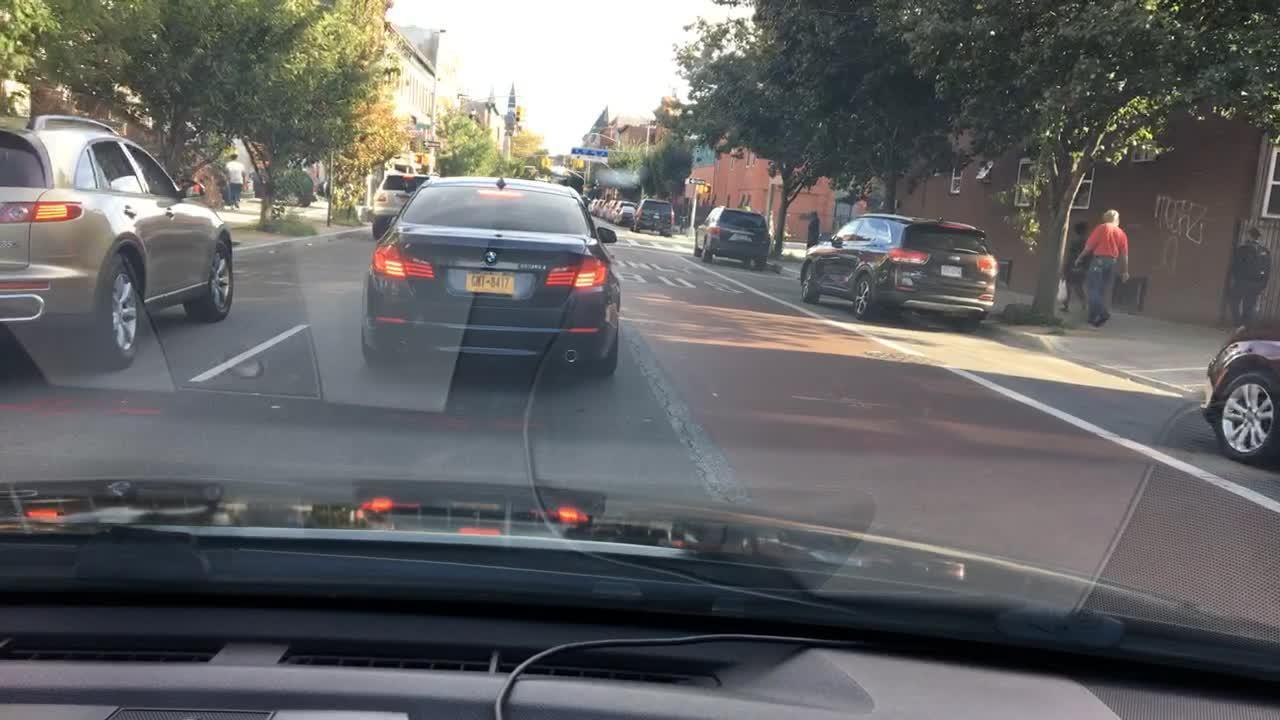bmw: (482, 248, 501, 266)
jeep: (944, 254, 965, 265)
